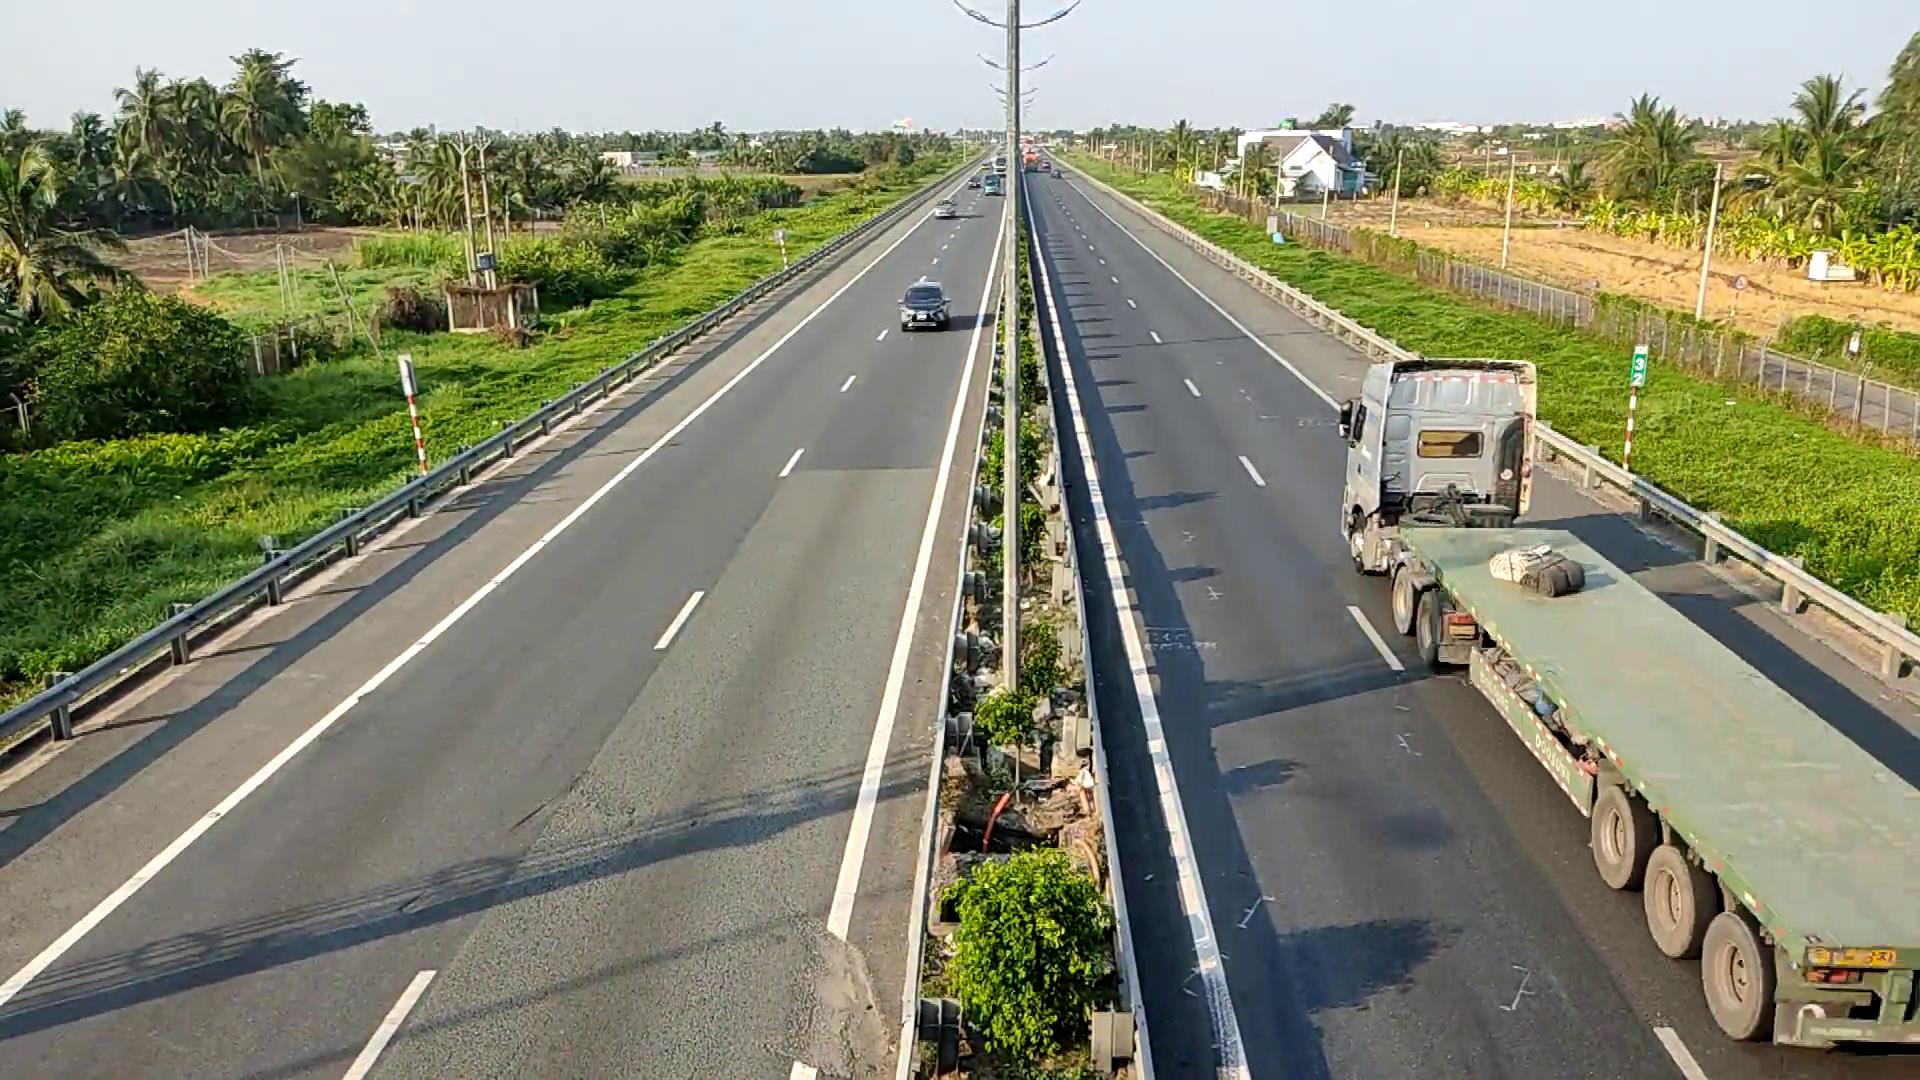car: (895, 277, 956, 335)
container: (1337, 345, 1911, 1047)
